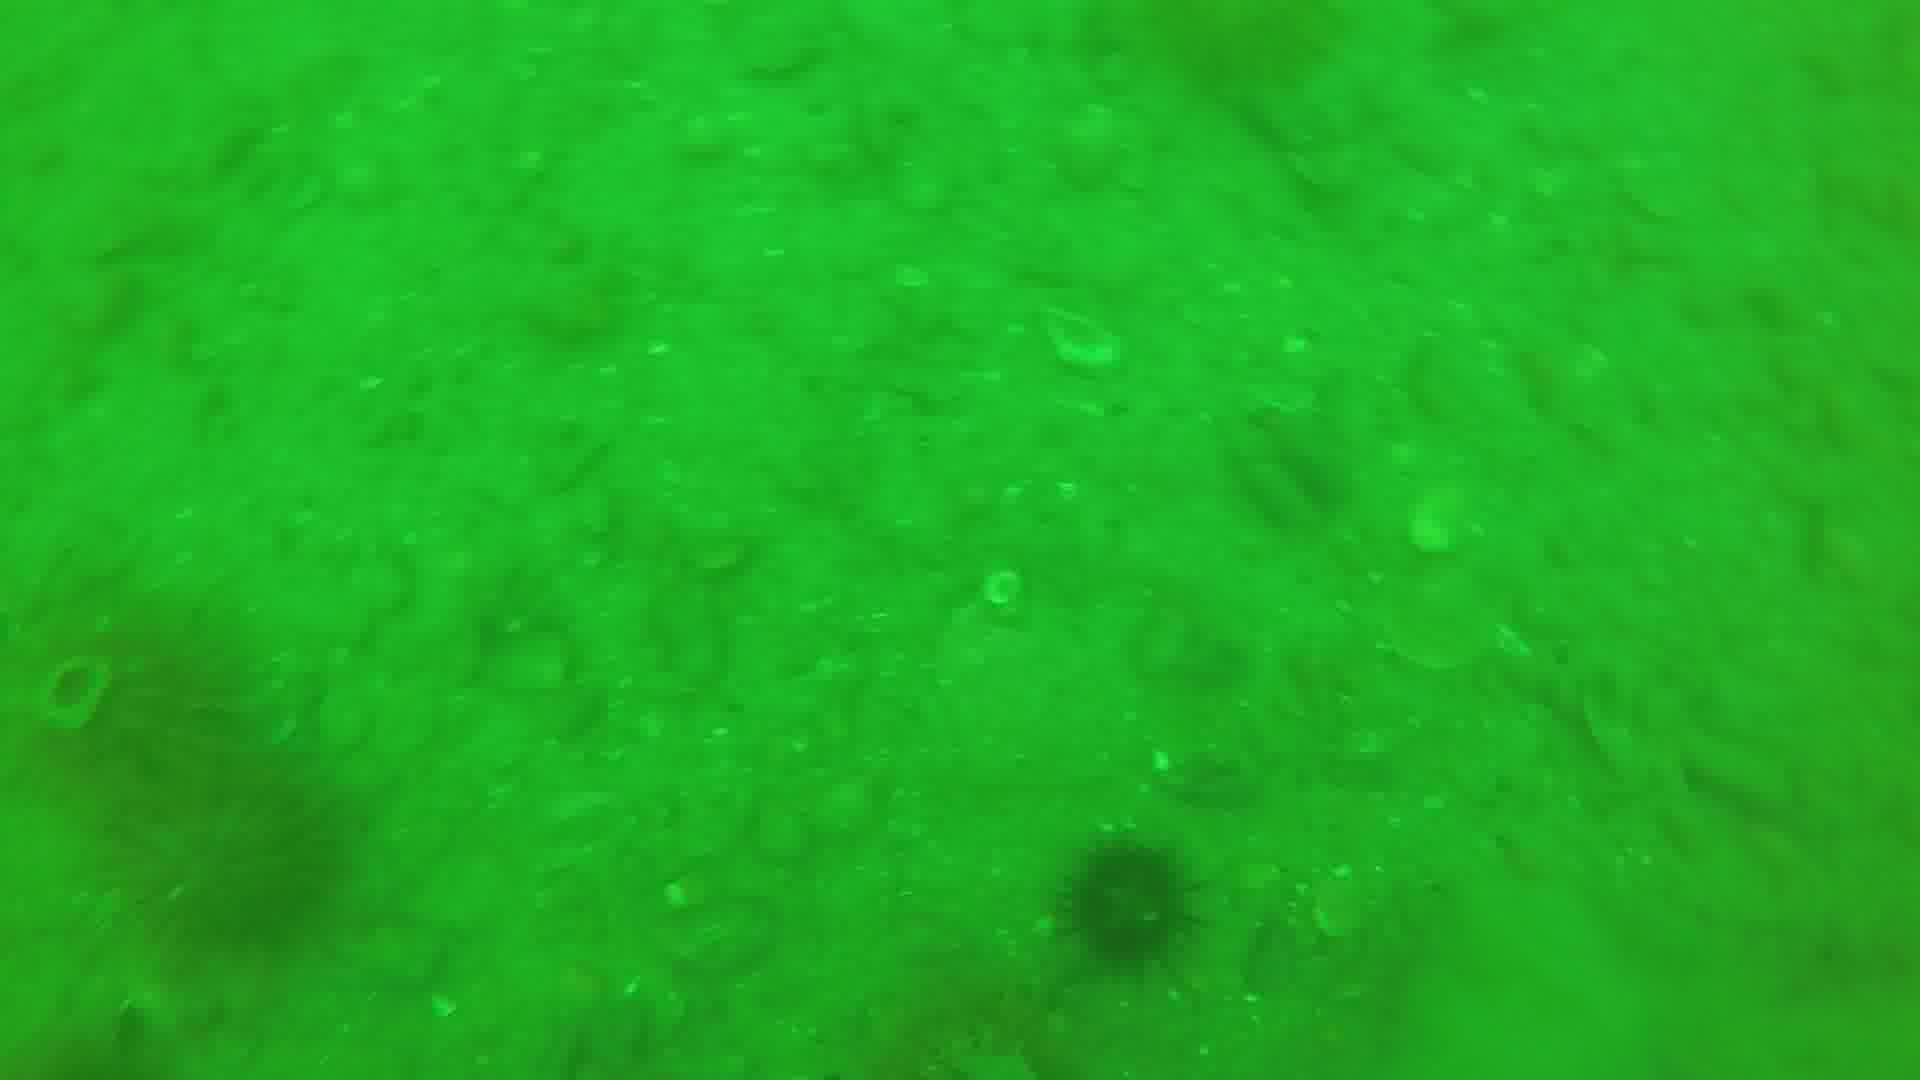echinus: (123, 765, 378, 989), (51, 615, 229, 775), (1060, 837, 1222, 997)
scallop: (26, 655, 112, 732), (1040, 295, 1118, 377), (1412, 489, 1458, 551)
